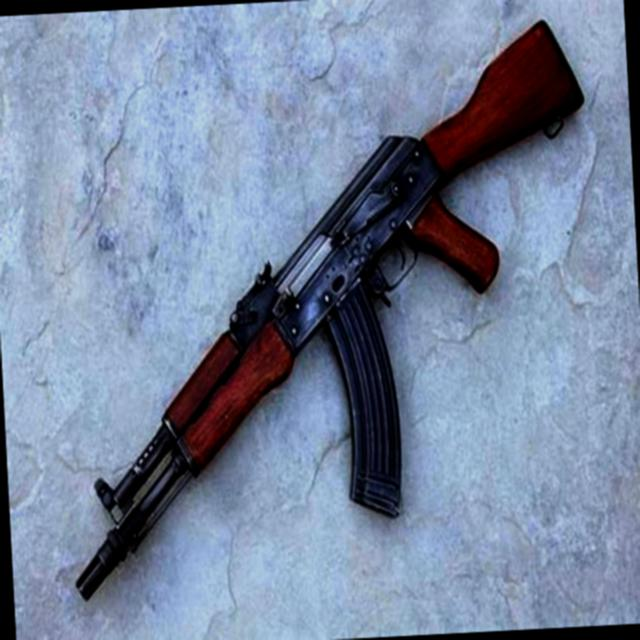ak: (49, 16, 607, 600)
